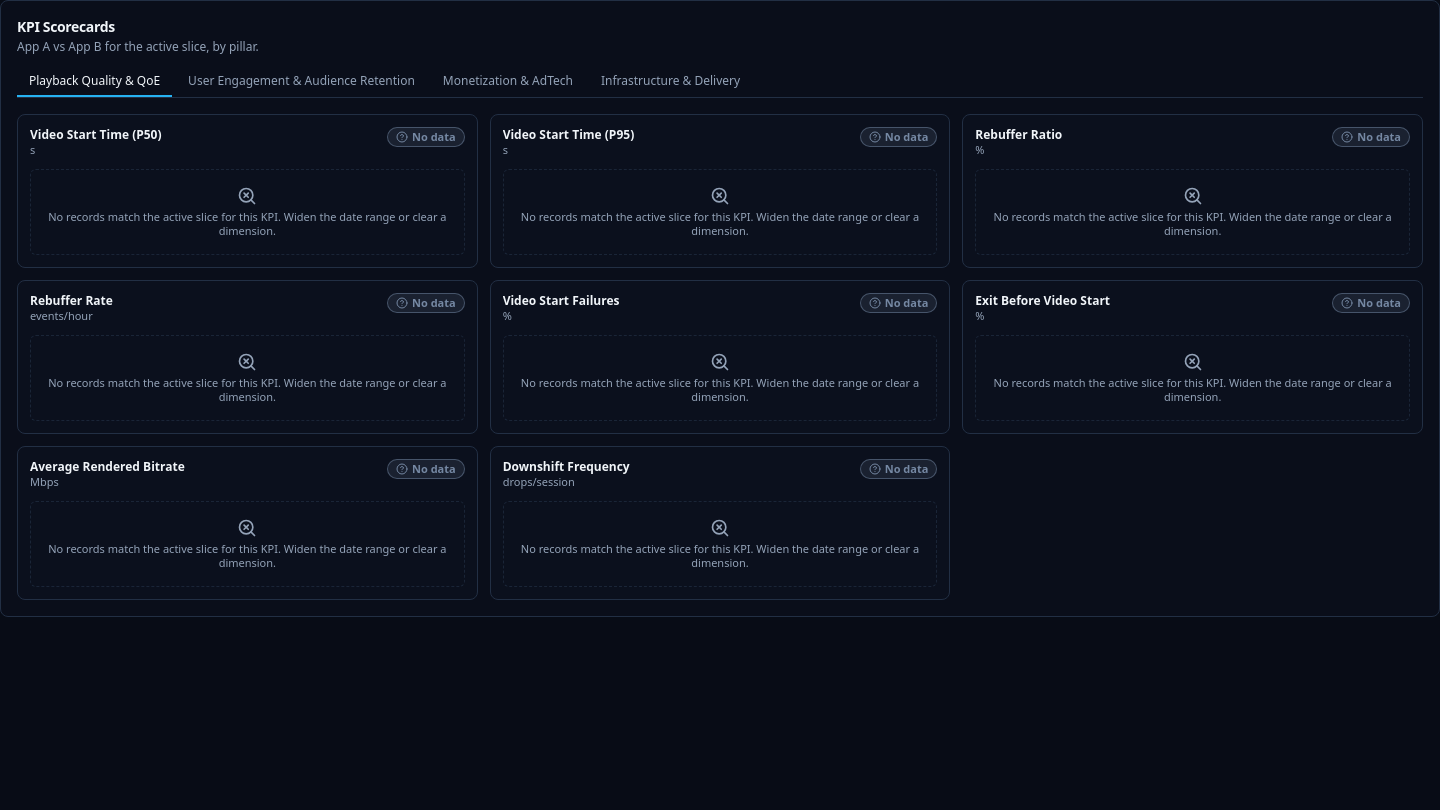
Test case: ScorecardGrid › switches pillars when a tab is clicked (Req 11.1)
Check: the element "time to first byte" is not shown
Click the tab "Infrastructure & Delivery". click: [670, 82]
box: [589,67,752,97]
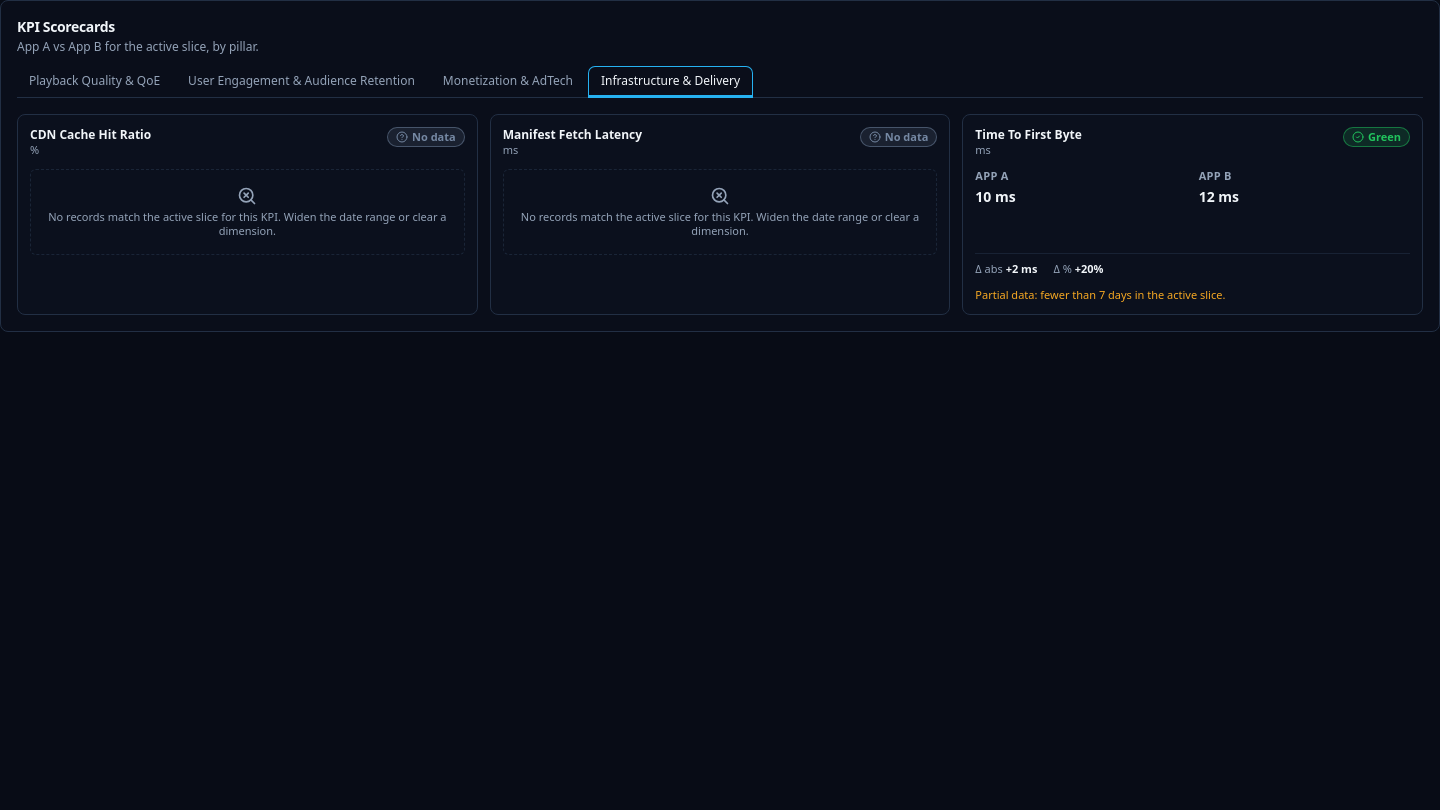
Check: the element "Time To First Byte" is shown, box [962,114,1423,315]
